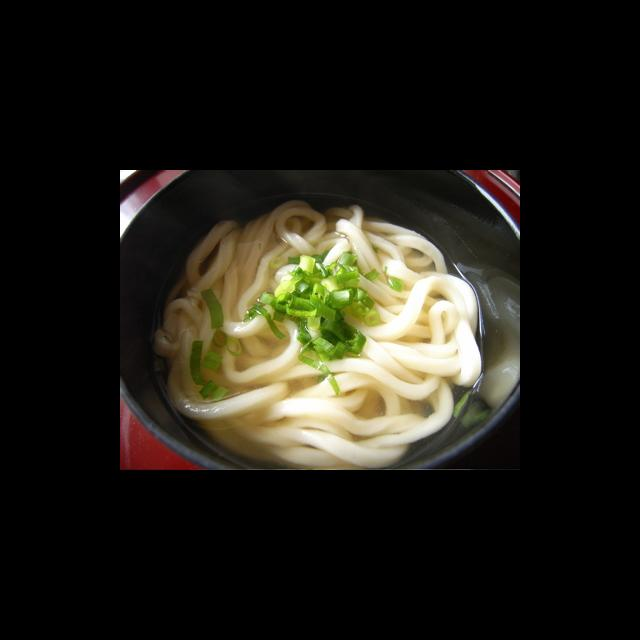noodles: (154, 195, 484, 470)
